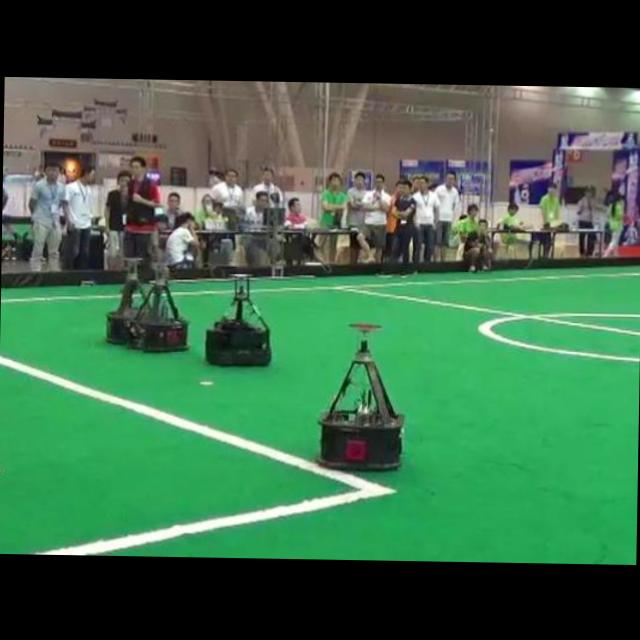robot: (318, 323, 403, 468), (206, 272, 271, 363), (128, 261, 187, 350), (106, 257, 143, 342)
